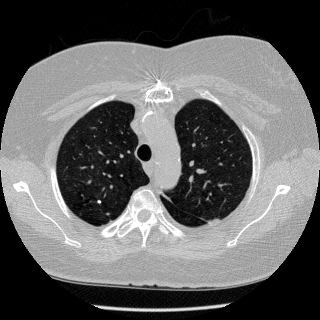nodule: (97, 200, 101, 204)
